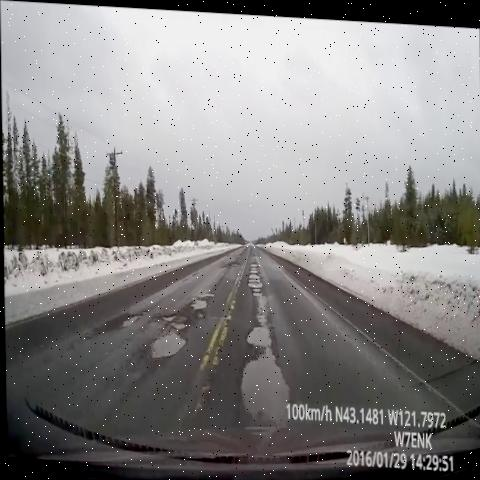pothole: (236, 334, 292, 437), (143, 315, 192, 369), (111, 293, 149, 341), (243, 303, 277, 351), (184, 278, 222, 319), (244, 253, 268, 303), (221, 248, 243, 275)
